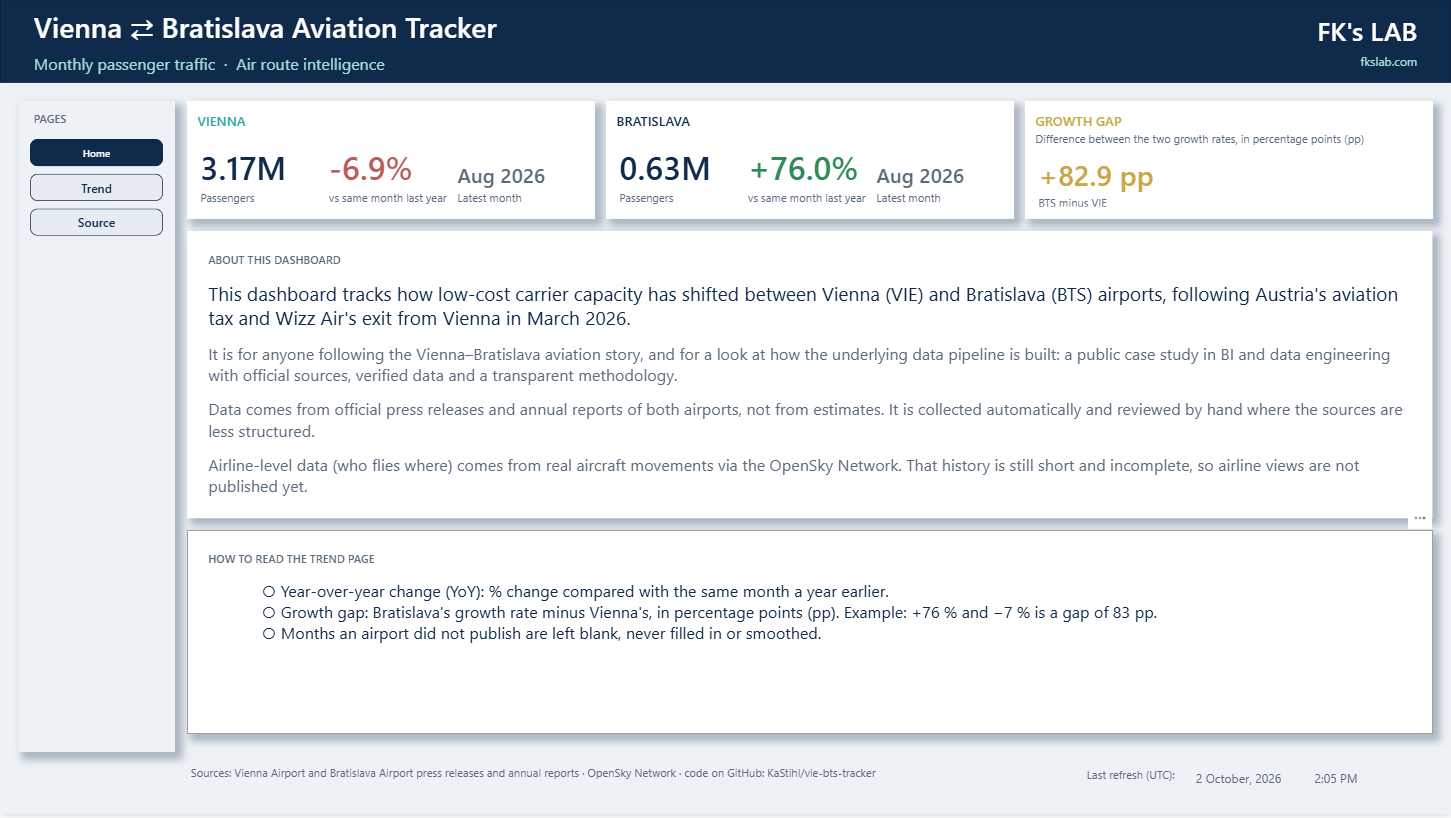

This screenshot's page, from the dashboard's own definition file:
{"tool":"powerbi","page":{"name":"Home","canvas":[1920,1080],"ordinal":0},"visuals":[{"type":"pageNavigator","box":[45.7,221.4,162.9,148.6],"z":0}]}

Visuals, with their boxes on the page's 1920x1080 design canvas (x1, y1, x2, y2). These are canvas units, not pixel positions in the 1451x818 screenshot, which may show the page scaled, cropped or inside an application window:
pageNavigator: <bbox>46, 221, 209, 370</bbox>
